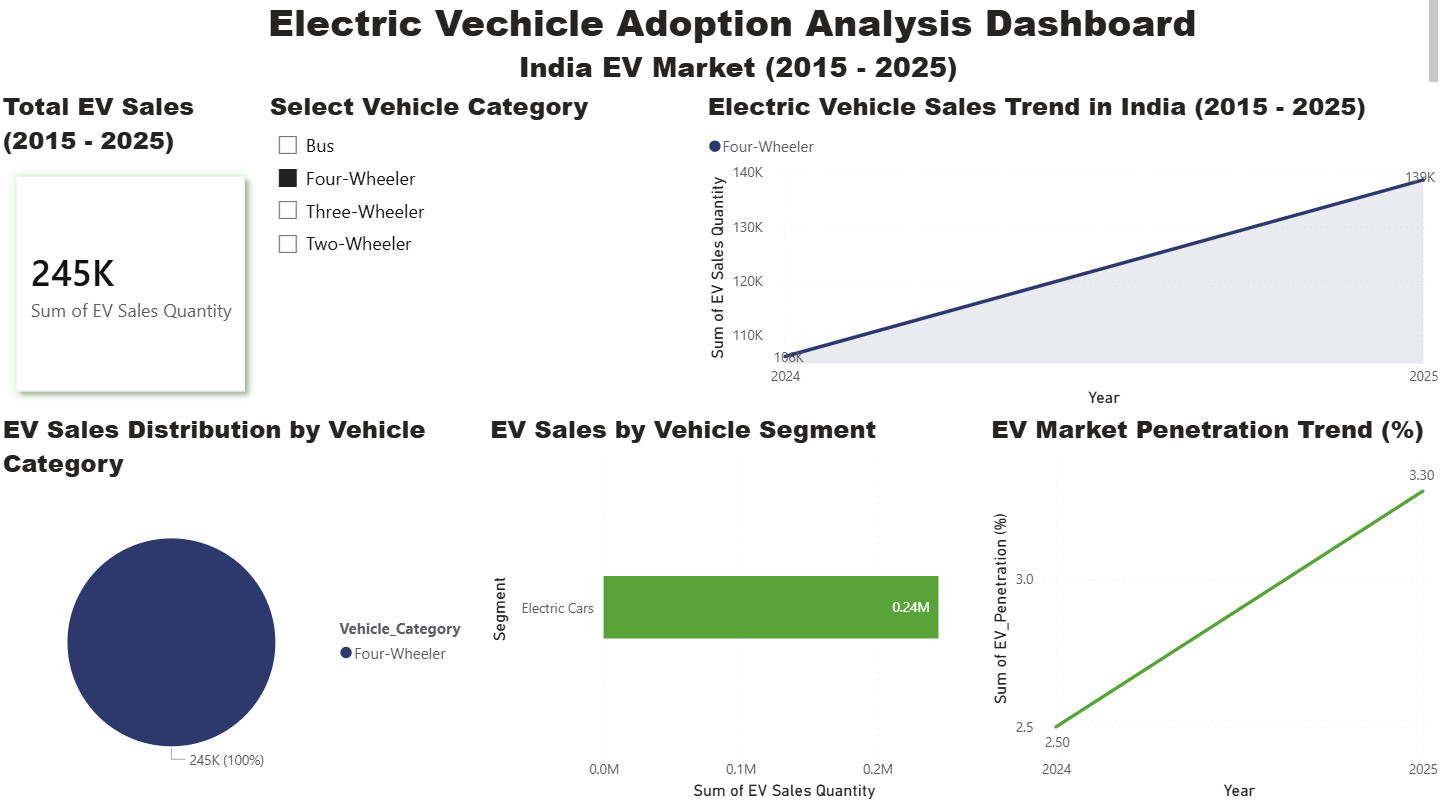

The dashboard page shown, as its layout file describes it:
{"tool":"powerbi","page":{"name":"Page 1","canvas":[1280,720],"ordinal":0},"visuals":[{"type":"lineChart","title":"Electric Vehicle Sales Trend in India (2015 - 2025)","fields":{"Category":["Indian_EV_Sales_2015_2025.Year"],"Series":["Indian_EV_Sales_2015_2025.Vehicle_Category"],"Y":["Sum(Indian_EV_Sales_2015_2025.EV Sales Quantity)"]},"box":[623.9,87.8,655.7,284.7],"z":0},{"type":"cardVisual","title":"Total EV Sales (2015 - 2025)","fields":{"Data":["Sum(Indian_EV_Sales_2015_2025.EV Sales Quantity)"]},"box":[0,87.8,236.2,284.7],"z":1000},{"type":"pieChart","title":"EV Sales Distribution by Vehicle Category","fields":{"Category":["Indian_EV_Sales_2015_2025.Vehicle_Category"],"Y":["Sum(Indian_EV_Sales_2015_2025.EV Sales Quantity)"]},"box":[0,372.3,430.9,347.7],"z":2000},{"type":"clusteredBarChart","title":"EV Sales by Vehicle Segment","fields":{"Category":["Indian_EV_Sales_2015_2025.Segment"],"Y":["Sum(Indian_EV_Sales_2015_2025.EV Sales Quantity)"]},"box":[430.9,372.3,444.1,347.7],"z":3000},{"type":"lineChart","title":"EV Market Penetration Trend (%)","fields":{"Category":["Indian_EV_Sales_2015_2025.Year"],"Y":["Sum(Indian_EV_Sales_2015_2025.EV_Penetration (%))"]},"box":[875,372.3,404.4,347.7],"z":4000},{"type":"slicer","title":"Select Vehicle Category","fields":{"Values":["Indian_EV_Sales_2015_2025.Vehicle_Category"]},"box":[236.2,87.8,387.6,284.7],"z":5000},{"type":"textbox","box":[0,0,1279.5,87.8],"z":6000}]}

Visuals, with their boxes in screenshot pixels (x1, y1, x2, y2), scaled from the page's 1280x720 canvas onto the 1442x800 screenshot:
"Electric Vehicle Sales Trend in India (2015 - 2025)" lineChart: x1=703, y1=98, x2=1441, y2=414
"Total EV Sales (2015 - 2025)" cardVisual: x1=0, y1=98, x2=266, y2=414
"EV Sales Distribution by Vehicle Category" pieChart: x1=0, y1=414, x2=485, y2=799
"EV Sales by Vehicle Segment" clusteredBarChart: x1=485, y1=414, x2=986, y2=799
"EV Market Penetration Trend (%)" lineChart: x1=986, y1=414, x2=1441, y2=799
"Select Vehicle Category" slicer: x1=266, y1=98, x2=703, y2=414
textbox: x1=0, y1=0, x2=1441, y2=98
